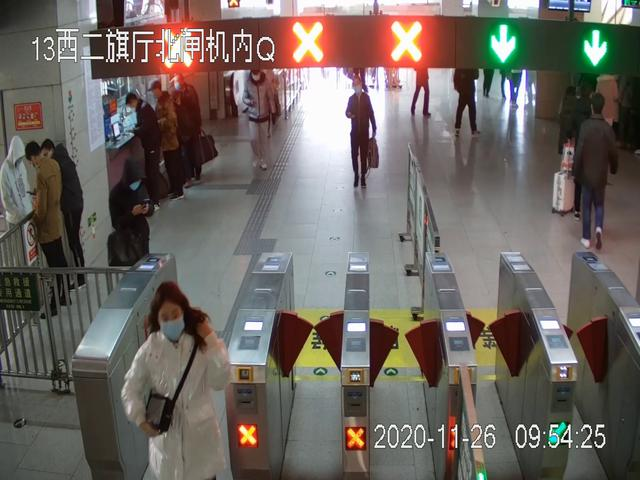person: (123, 282, 229, 480), (41, 139, 87, 287), (26, 141, 64, 317), (576, 91, 618, 250), (107, 158, 157, 278), (1, 134, 30, 281), (149, 81, 185, 199), (125, 91, 159, 208), (241, 68, 275, 169), (347, 76, 377, 189), (451, 67, 479, 138), (411, 55, 430, 118)
